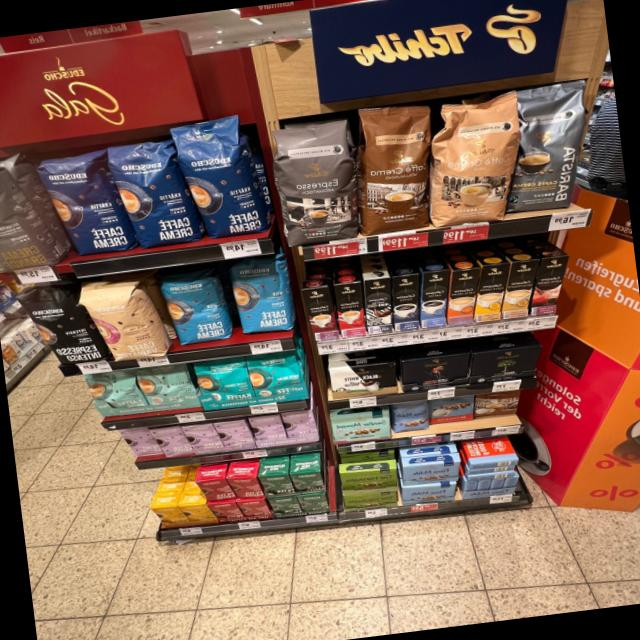BM Gemahlen: (468, 343, 546, 385)
BW Gemahlen: (327, 361, 397, 401)
Barista CC: (493, 76, 603, 216)
CC Mild: (419, 89, 532, 228)
CC Vollmundig: (471, 389, 525, 420)
CC Vollmundig 36 Pads: (348, 102, 446, 237)
Espresso Aromatisch: (267, 116, 365, 248)
FM 36 Pads: (427, 394, 478, 426)
FM Bohne: (389, 398, 431, 434)
FM Gemahlen: (400, 460, 461, 486), (401, 480, 457, 504)
Herzhatfe Mundig: (338, 467, 398, 494), (343, 487, 397, 513)
LG Gemahlen: (396, 351, 474, 394)
SM Gemahlen: (328, 407, 393, 446)
Simo CC Colombia: (529, 253, 568, 316)
Simo CCMild bigpack: (474, 262, 508, 321)
Simo CCVollmundig bigpack: (447, 268, 479, 326)
Simo Decaff: (501, 259, 539, 319)
Simo Es Brazil: (333, 281, 366, 338)
Simo Es Caramel: (301, 286, 338, 342)
Simo Es Elegant: (363, 277, 393, 335)
Simo Es Kraft: (392, 273, 418, 331)
Simo Es Vanilla: (421, 269, 449, 328)
